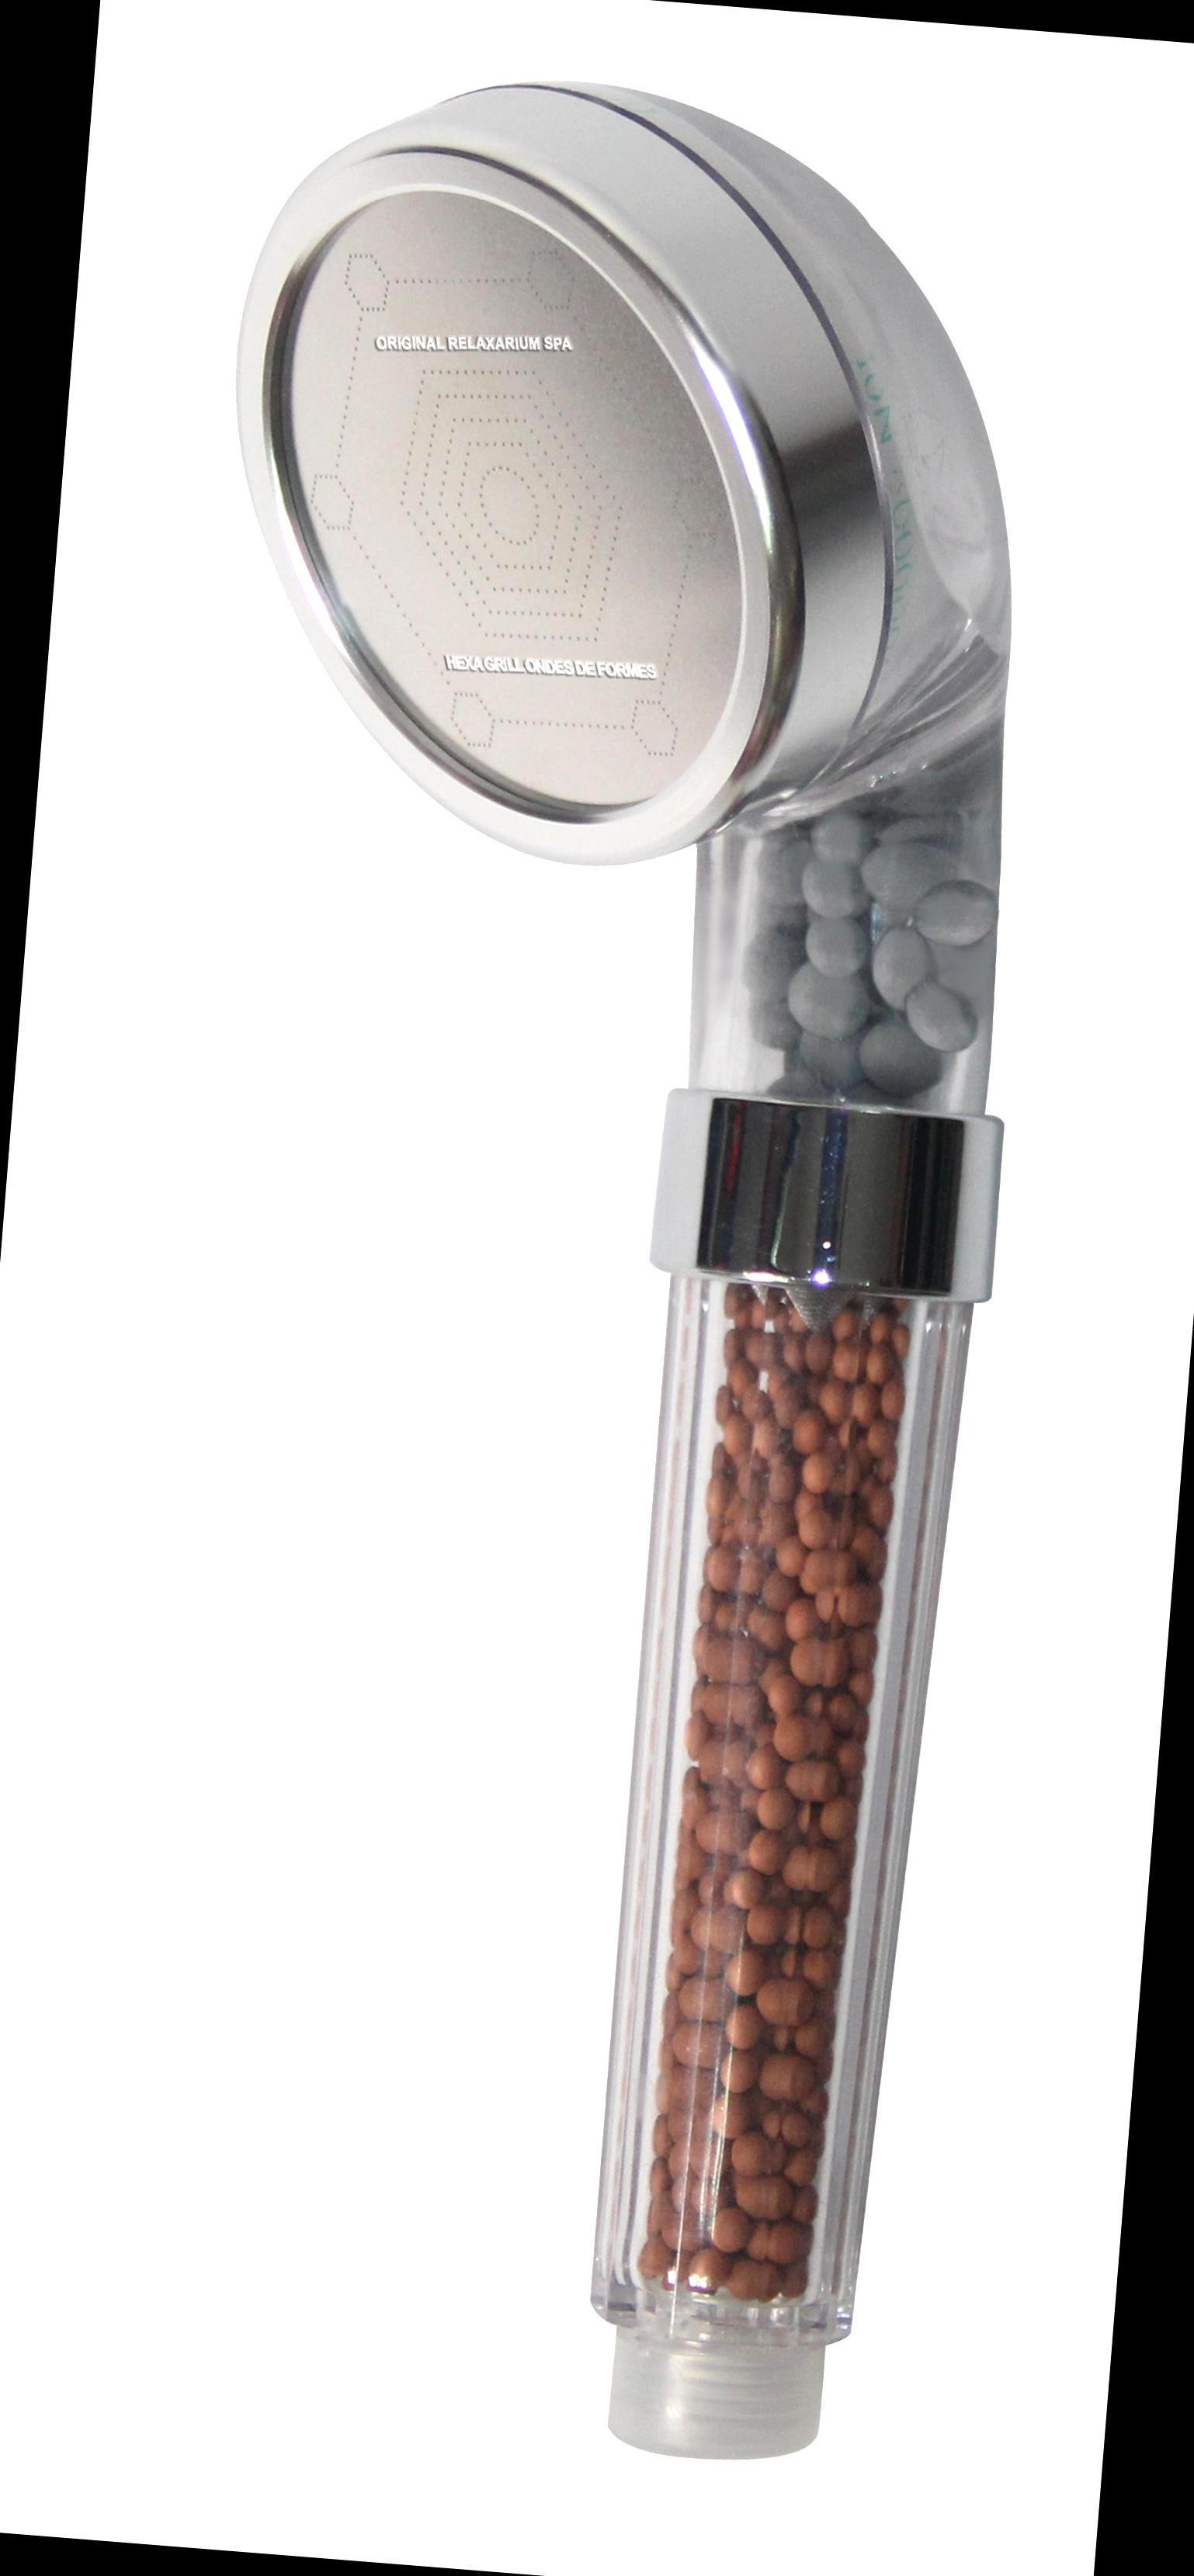Ducha: (13, 49, 1194, 2522)
